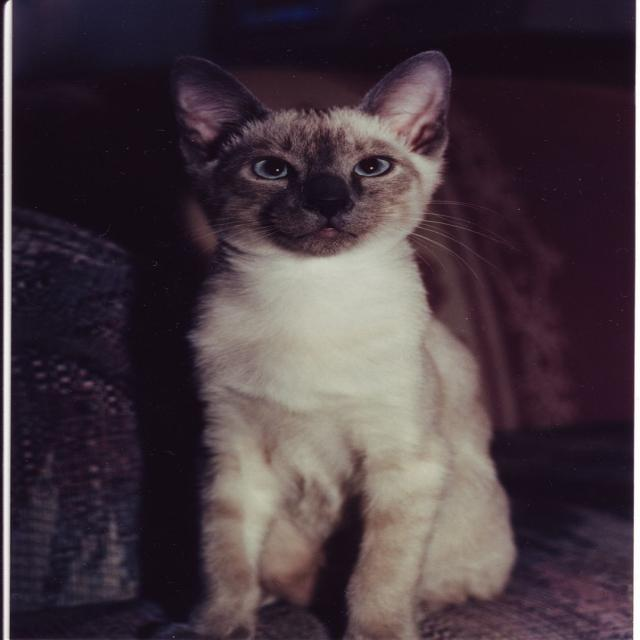left eye: (351, 154, 397, 178)
